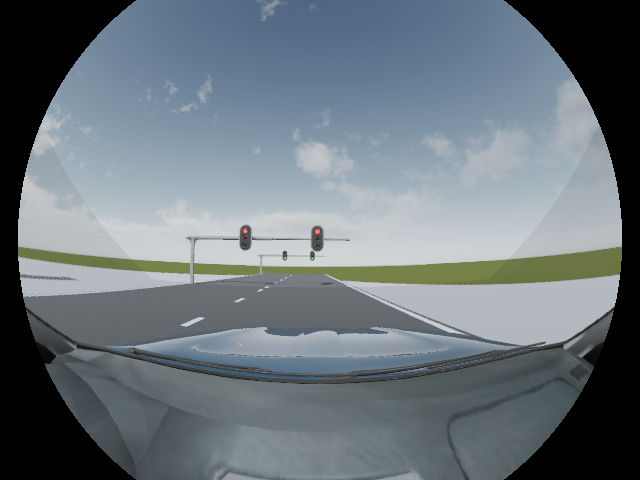Green Light: (283, 250, 287, 261)
Red Light: (311, 226, 324, 251), (240, 225, 251, 250)
